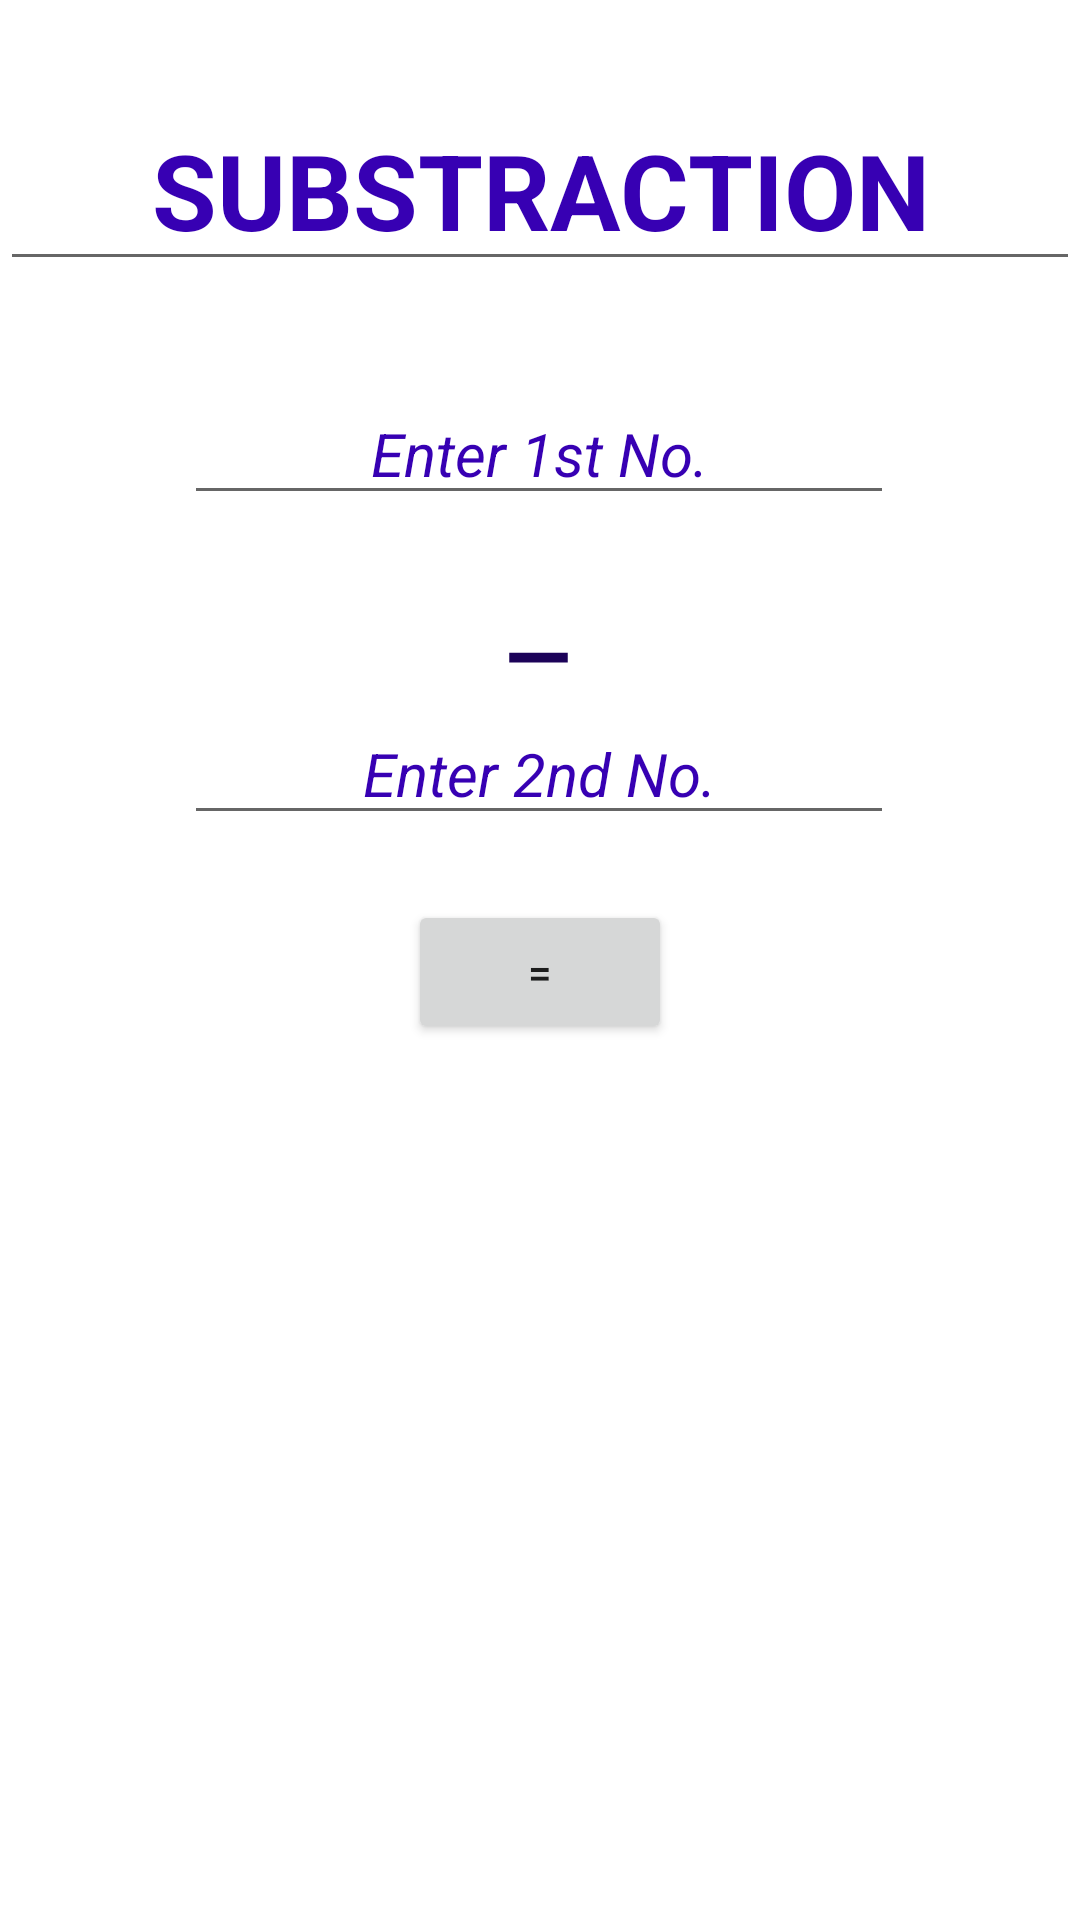

Locate icon controls on the screen. Image size 1080w x 1920h, boxes as (x1, y1, x2, y2).
minus: (509, 652, 568, 663)
